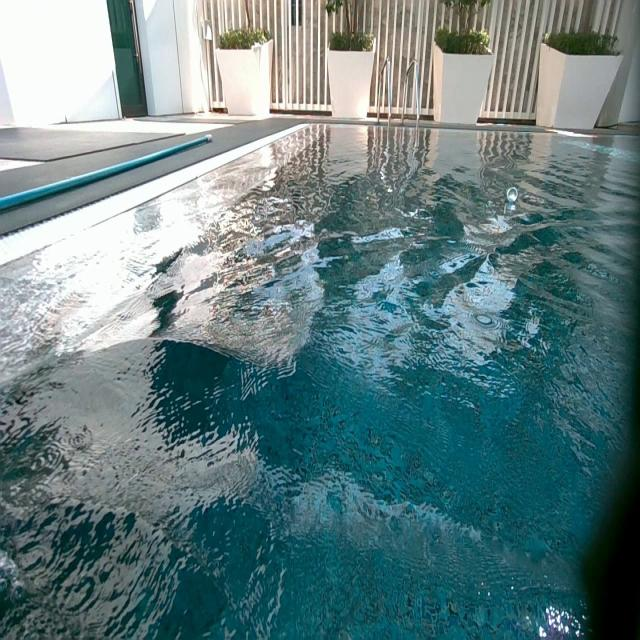Cans: (507, 186, 519, 202)
